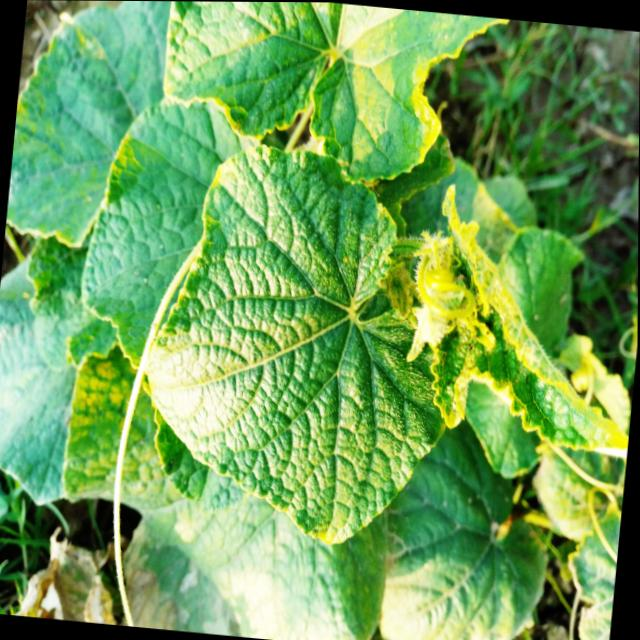Fresh-Leaf: (143, 143, 447, 547), (165, 1, 512, 185)
